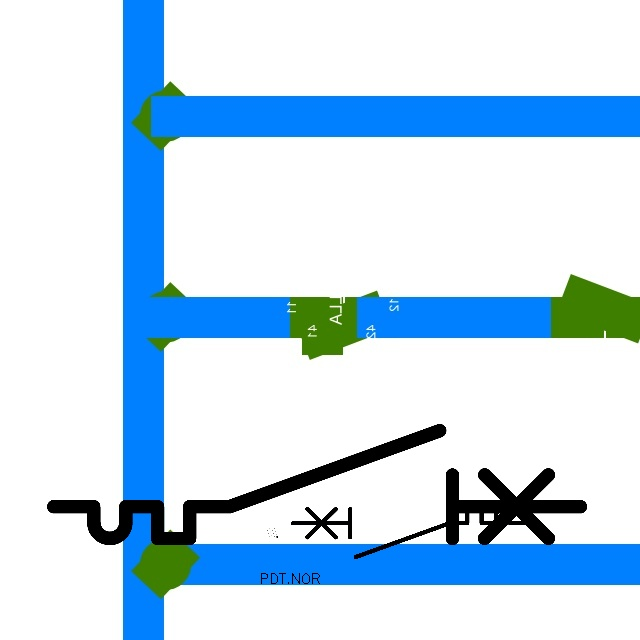interruptor_termomagnetico: (40, 417, 593, 552), (286, 503, 533, 563)
